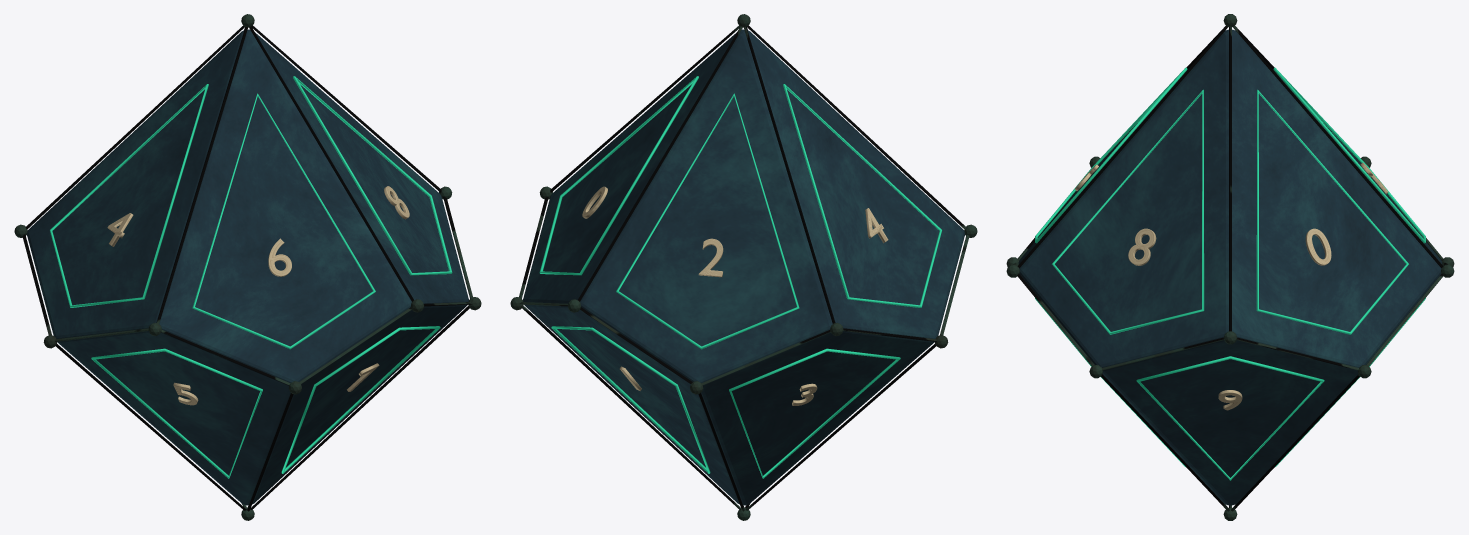
File: D10_个位骰_0-9_baked.glb
3 renders of one model, left to right at view 1: azimuth 30°, elevation 25°; view 2: azimuth 150°, elevation 25°; view 3: azimuth 270°, elevation 25°, orthographic.
Visible parts, largest first — view 1: D10_0_9_Body_10_Faces, D10_0_9_Aged_Bronze_Edges, D10_0_9_Occult_Face_Borders, D10_0_9_Vertex_Studs; view 2: D10_0_9_Body_10_Faces, D10_0_9_Aged_Bronze_Edges, D10_0_9_Occult_Face_Borders, D10_0_9_Vertex_Studs; view 3: D10_0_9_Body_10_Faces, D10_0_9_Occult_Face_Borders, D10_0_9_Aged_Bronze_Edges, D10_0_9_Vertex_Studs, D10_0_9_Face_09_8, D10_0_9_Face_01_0.
Boxes of the visible parts, x1,y1,x2,y2 form: D10_0_9_Body_10_Faces: (27, 29, 468, 505); D10_0_9_Aged_Bronze_Edges: (22, 25, 472, 511); D10_0_9_Occult_Face_Borders: (50, 76, 452, 478); D10_0_9_Vertex_Studs: (14, 14, 481, 520); D10_0_9_Body_10_Faces: (523, 29, 964, 505); D10_0_9_Aged_Bronze_Edges: (519, 25, 969, 511); D10_0_9_Occult_Face_Borders: (539, 76, 941, 478); D10_0_9_Vertex_Studs: (510, 14, 977, 520); D10_0_9_Body_10_Faces: (1018, 29, 1442, 505); D10_0_9_Occult_Face_Borders: (1035, 67, 1425, 480); D10_0_9_Aged_Bronze_Edges: (1013, 25, 1447, 511); D10_0_9_Vertex_Studs: (1006, 14, 1454, 520); D10_0_9_Face_09_8: (1128, 228, 1156, 265); D10_0_9_Face_01_0: (1305, 228, 1331, 265).
Bounding box in the file's own units: 3.76 × 4.47 × 3.58.
Materials: 14 (13 with a texture image).
